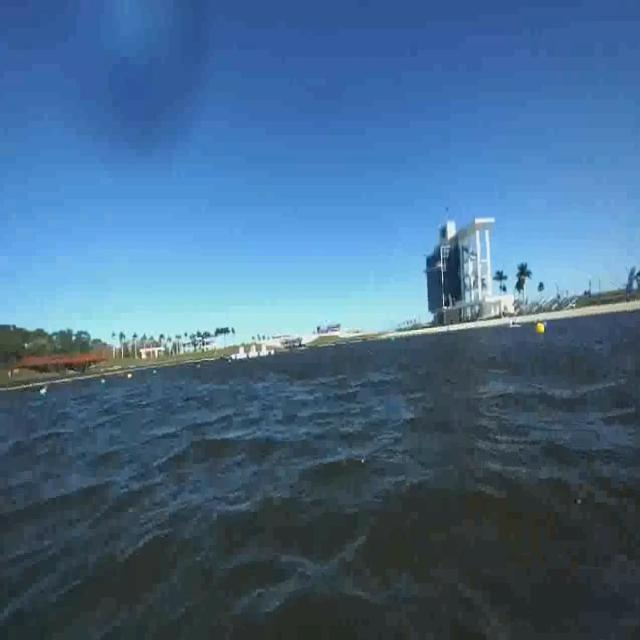yellow-buoy: (536, 320, 546, 335)
